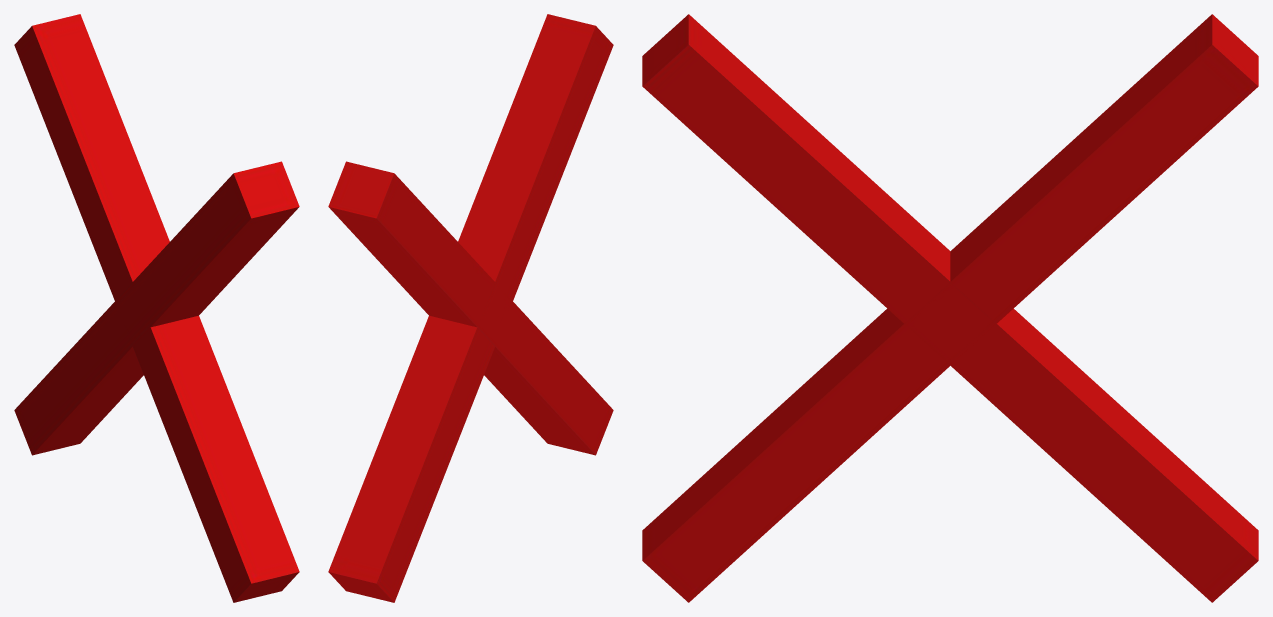
The picture shows the model from 3 angles, left to right: view 1: azimuth 30°, elevation 25°; view 2: azimuth 150°, elevation 25°; view 3: azimuth 270°, elevation 25°; orthographic projection. The views are drawn at different scales.
Visible parts, largest first — view 1: Cube; view 2: Cube; view 3: Cube.
Boxes of the visible parts, box(x1,y1,x2,y2) form: Cube: box(14, 14, 299, 602); Cube: box(328, 14, 613, 602); Cube: box(642, 14, 1258, 602).
Bounding box in the file's own units: 53.57 × 455 × 455.
1 material, 1 textured.
